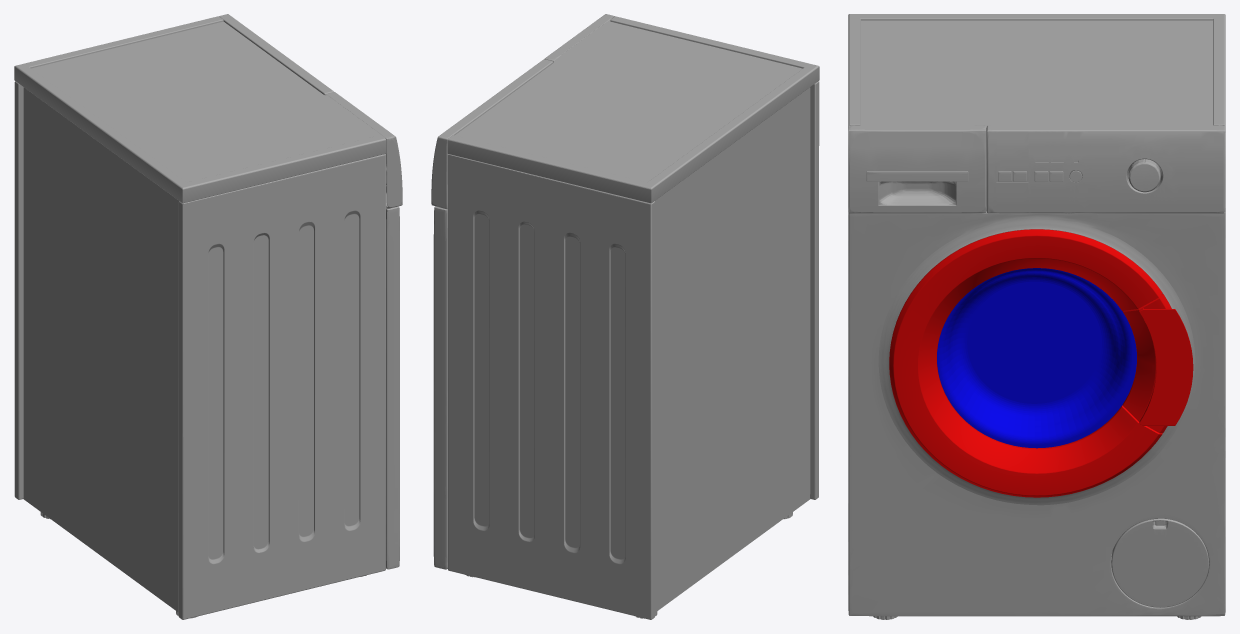
Rendered from Wash_m_Goodnormals.fbx.
3 renders of one model, left to right at view 1: azimuth 30°, elevation 25°; view 2: azimuth 150°, elevation 25°; view 3: azimuth 270°, elevation 25°, orthographic. The views are drawn at different scales.
Parts seen in each view (by area): view 1: Wash_M_Normals; view 2: Wash_M_Normals; view 3: Wash_M_Normals.
Part boxes in pixels (<box>): Wash_M_Normals: <box>14,14,402,619</box>; Wash_M_Normals: <box>431,14,819,619</box>; Wash_M_Normals: <box>848,14,1225,619</box>.
Size of the model in its own units: 0.0473 by 0.087 by 0.06.
